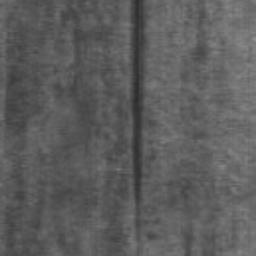Scratches: (130, 0, 147, 256)
